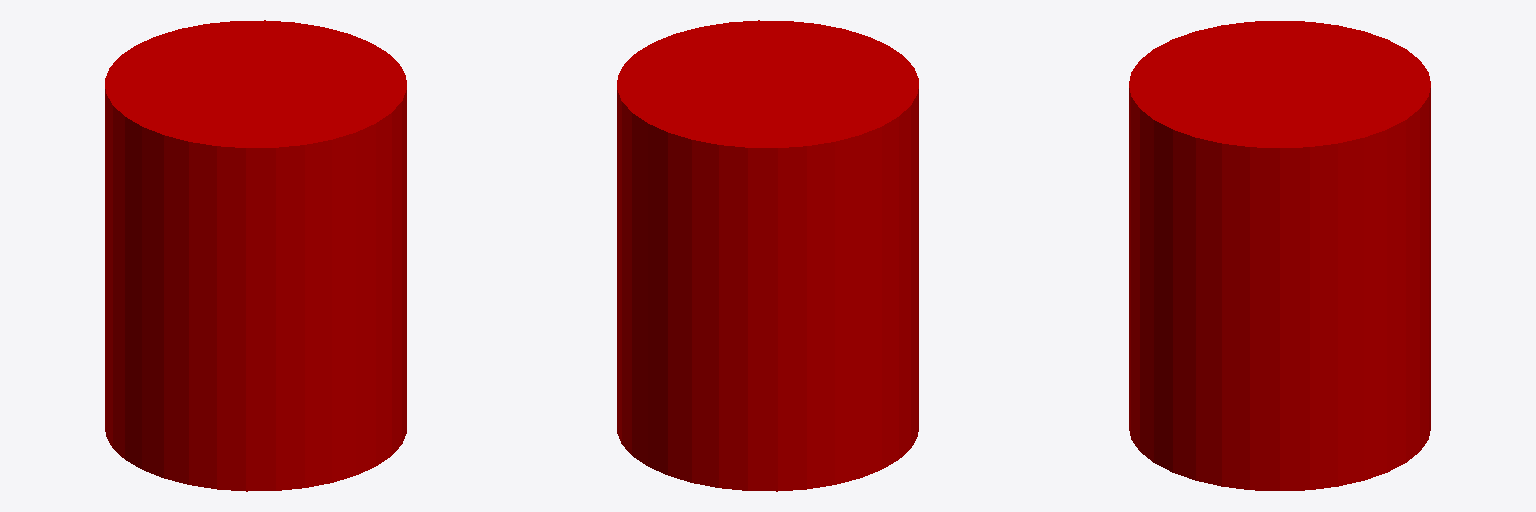
URDF robot description (coke):
<?xml version="0.0" ?>
<robot name="coke">
<link name="container">
    <contact>
      <lateral_friction value="1.0"/>
    </contact>
    <inertial>
      <origin rpy="0 0 0" xyz="0 0 0"/>
       <mass value=".05"/>
       <inertia ixx="1" ixy="0" ixz="0" iyy="1" iyz="0" izz="1"/>
    </inertial>
    <visual>
      <origin rpy="0 0 0" xyz="0 0 0"/>
      <geometry>
		    <cylinder radius="0.03" length="0.075"/>
      </geometry>
       <material name="red">
        <color rgba="0.8 0 0 1"/>
      </material>
    </visual>
    <collision>
      <origin rpy="0 0 0" xyz="0 0 0"/>
      <geometry> 
        <box size="0.075 0.075 0.075"/>
      </geometry>
    </collision>
</link> 
</robot>

--- Facts derived from the render (not from the file) ---
Views: 3 orthographic renders of the robot side by side, from view 1: azimuth 30°, elevation 25°; view 2: azimuth 150°, elevation 25°; view 3: azimuth 270°, elevation 25°.
Robot: coke — 1 links, 0 joints (none); root link container; default pose: all joints at 0.
Links seen in each view (by area): view 1: container; view 2: container; view 3: container.
Link boxes in pixels (box(x1,y1,x2,y2)): container: box(105, 20, 406, 491); container: box(617, 20, 918, 491); container: box(1129, 21, 1430, 490).
Bounding box of the posed robot: 0.06 × 0.06 × 0.075 m (x, y, z).
Geometry: primitives only (box / cylinder / sphere), no mesh files.